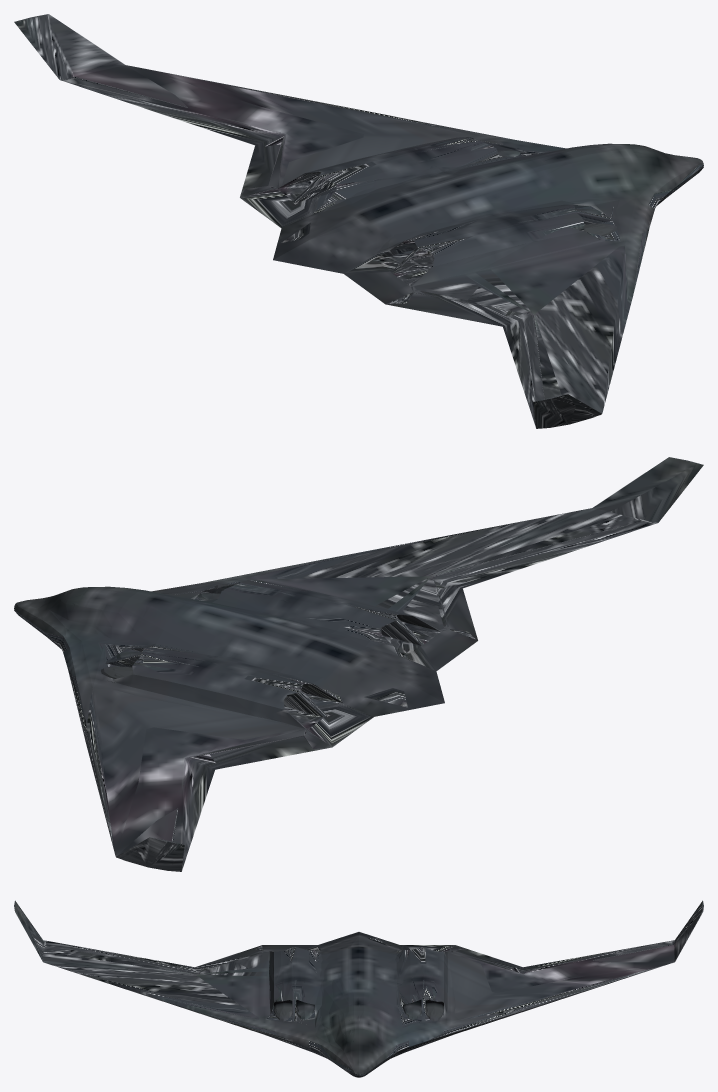
The picture shows the model from 3 angles, top to bottom: view 1: azimuth 30°, elevation 25°; view 2: azimuth 150°, elevation 25°; view 3: azimuth 270°, elevation 25°; orthographic projection. The views are drawn at different scales.
Parts seen in each view (by area): view 1: Object_4; view 2: Object_4; view 3: Object_4.
Part boxes in pixels (box(x1,y1,x2,y2)): Object_4: box(14, 14, 703, 428); Object_4: box(14, 457, 703, 871); Object_4: box(14, 900, 703, 1077).
Size of the model in its own units: 4.95 by 0.9169 by 10.39.
Materials: 1 (1 with a texture image).
